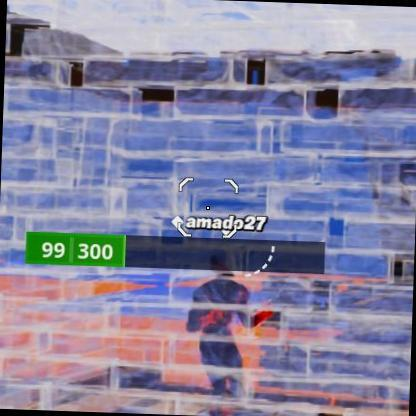person: (182, 238, 271, 412)
